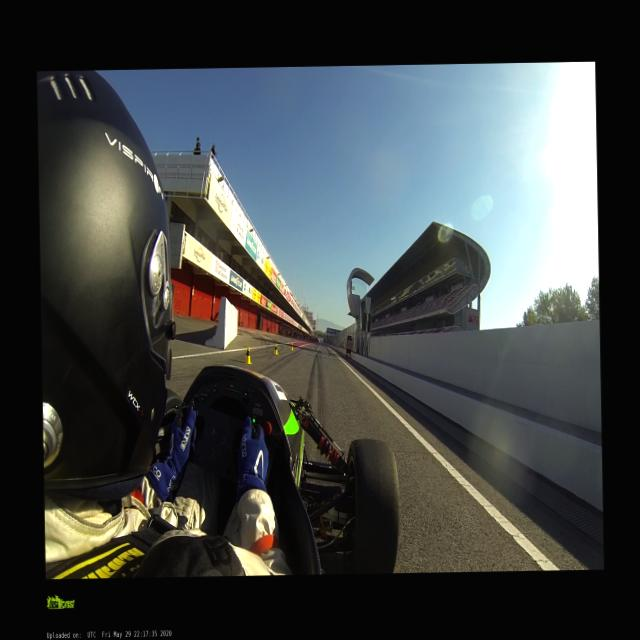yellow_cone: (244, 346, 252, 365), (273, 344, 278, 356), (290, 343, 294, 351)
